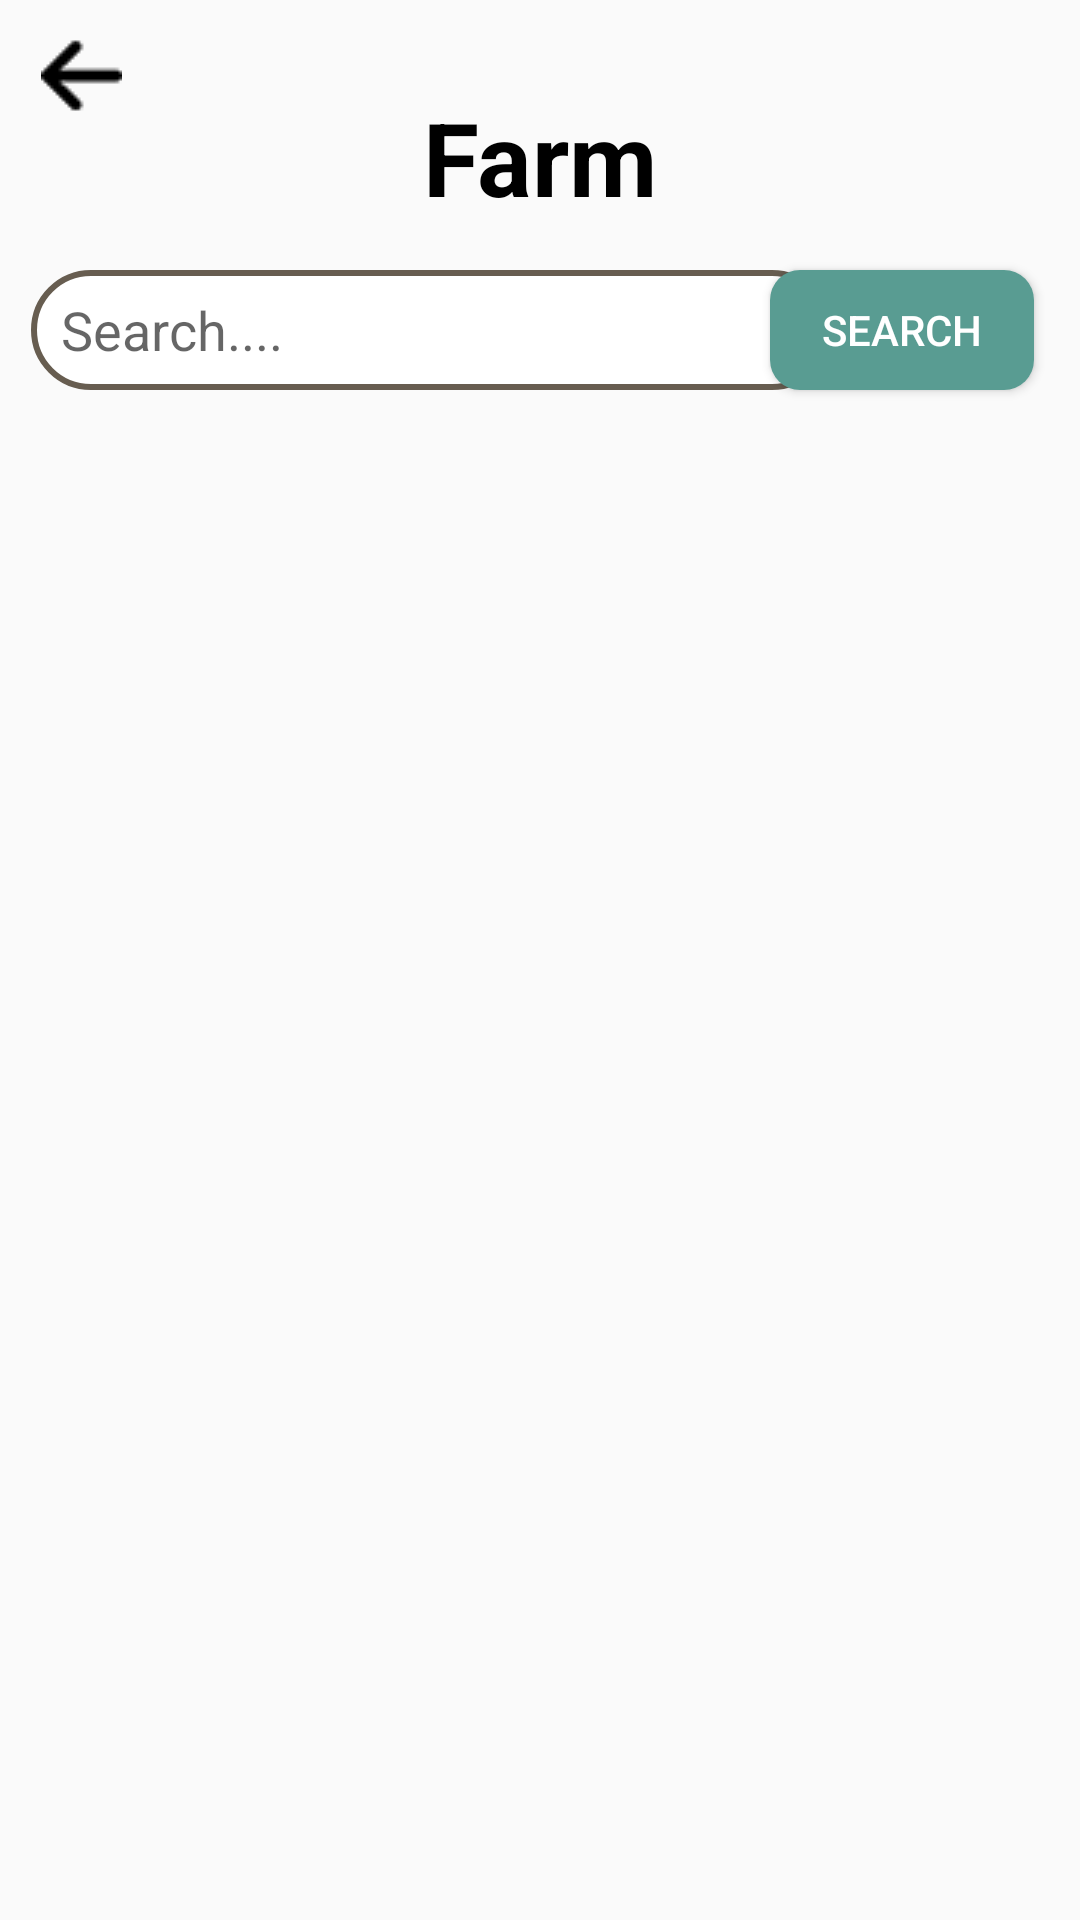

Icon click points for this 1080 × 1920 phone screenshot, format point (x, y):
back: point (81, 75)
